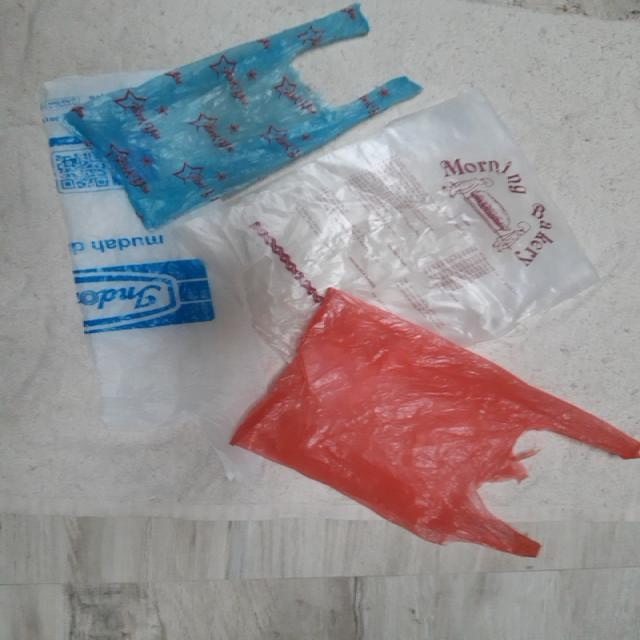Single-layer Plastic: (227, 285, 640, 583), (231, 77, 613, 398), (59, 2, 426, 235), (25, 65, 263, 422)
